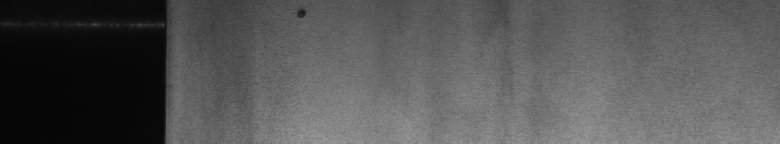fi: (288, 4, 312, 24)
